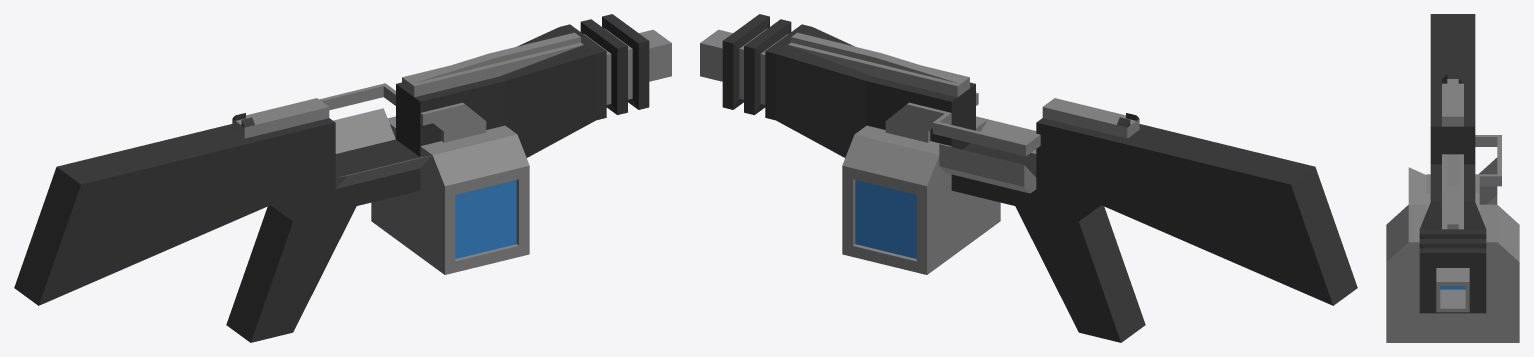
Rendered from SMG.fbx.
3 views of the same model, side by side, from view 1: azimuth 30°, elevation 25°; view 2: azimuth 150°, elevation 25°; view 3: azimuth 270°, elevation 25° (orthographic). The views are drawn at different scales.
Visible parts, largest first — view 1: Cube; view 2: Cube; view 3: Cube.
Part boxes in pixels (x1=…): Cube: x1=14, y1=14, x2=671, y2=342; Cube: x1=700, y1=14, x2=1357, y2=342; Cube: x1=1386, y1=14, x2=1519, y2=342.
Bounding box in the file's own units: 150 × 48.75 × 30.
